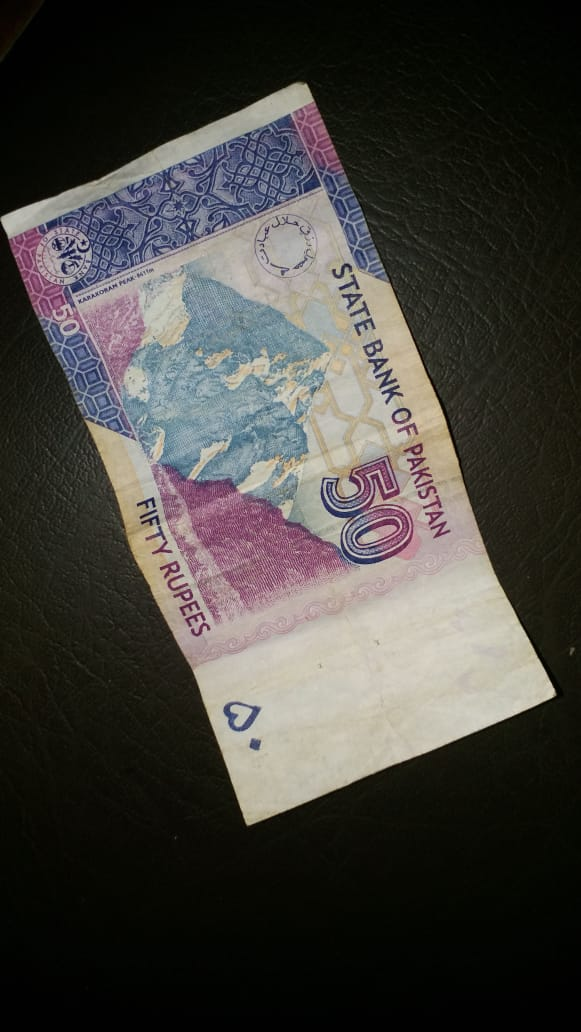50 rupee: (12, 77, 543, 887)
